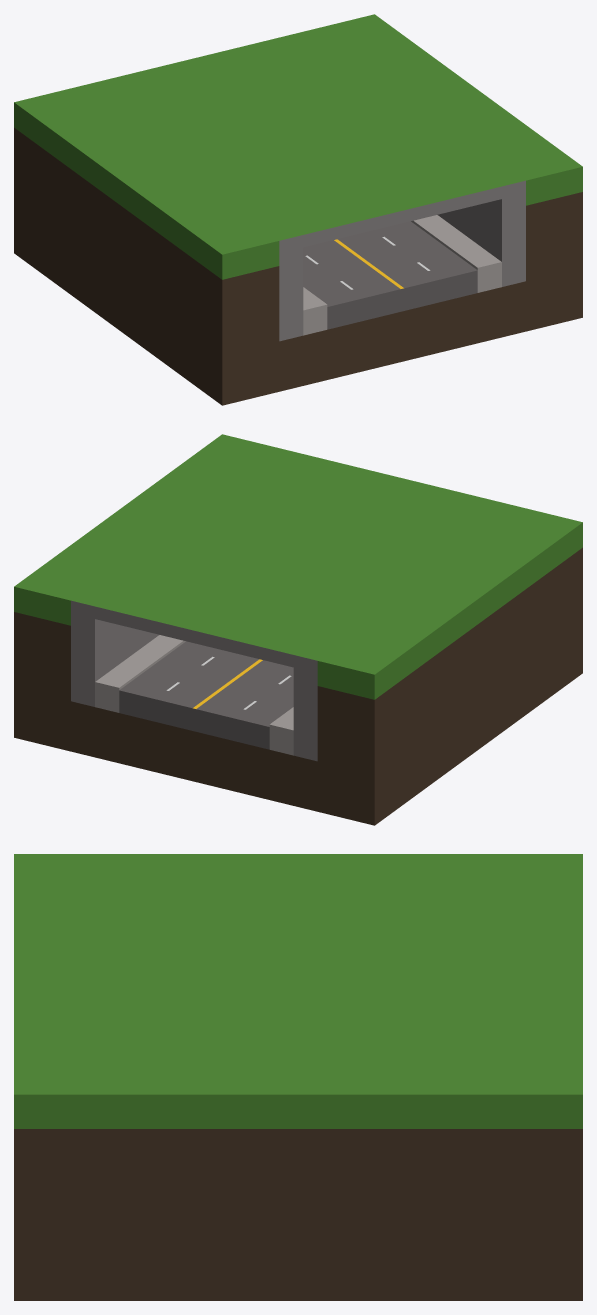
The model's file is tiles-tile-mainroad-tunnel.glb.
The picture shows the model from 3 angles, top to bottom: view 1: azimuth 30°, elevation 25°; view 2: azimuth 150°, elevation 25°; view 3: azimuth 270°, elevation 25°; orthographic projection. The views are drawn at different scales.
Parts seen in each view (by area): view 1: tile-mainroad-tunnel; view 2: tile-mainroad-tunnel; view 3: tile-mainroad-tunnel.
Boxes of the visible parts, x1=… form: tile-mainroad-tunnel: x1=14, y1=14, x2=582, y2=405; tile-mainroad-tunnel: x1=14, y1=434, x2=582, y2=825; tile-mainroad-tunnel: x1=14, y1=854, x2=582, y2=1300.
Size of the model in its own units: 30 by 12 by 30.
